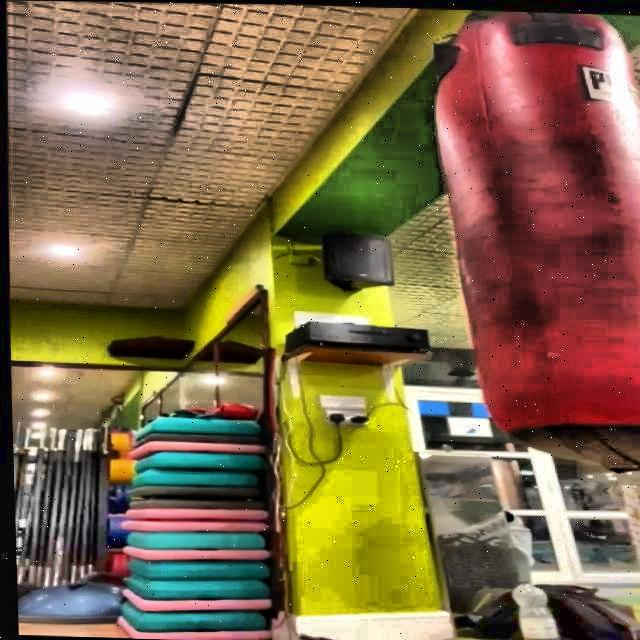boxing-bag: (422, 6, 640, 470)
